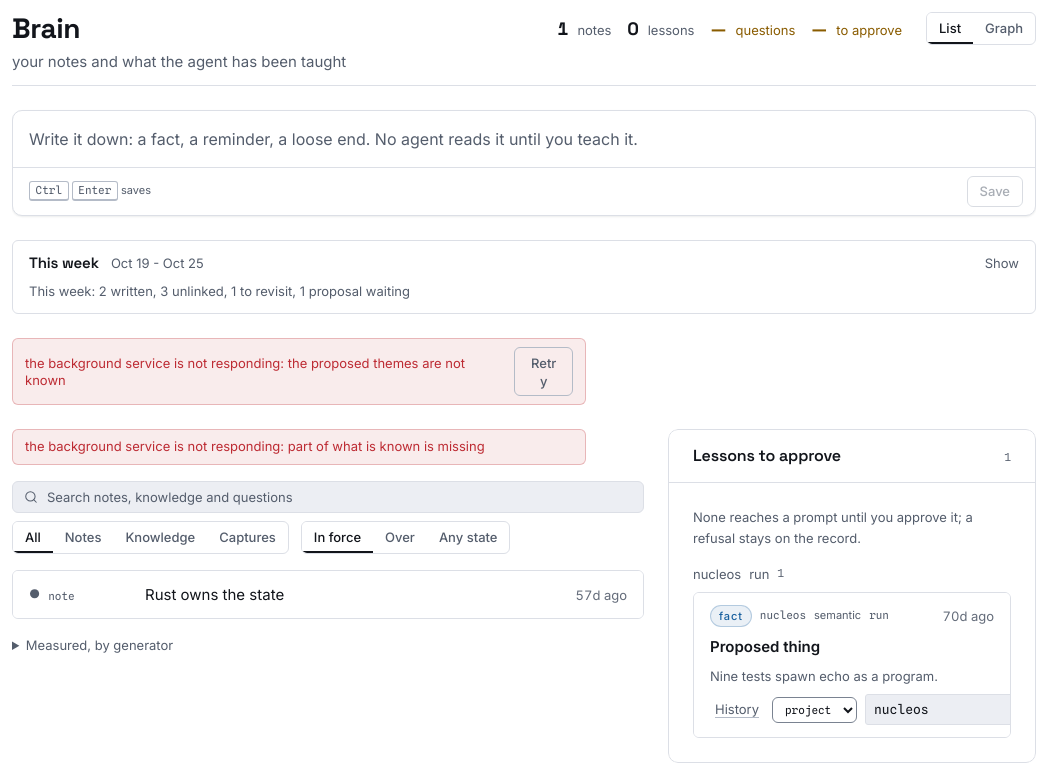
Brain › with nothing open the aside holds the lessons to approve, and Close gives them back
Check: the heading "Lessons to approve" is shown, box [693,446,841,466]
Click the button "note Rust owns the state 57d ago" at (215, 594), box [13,571,643,618]
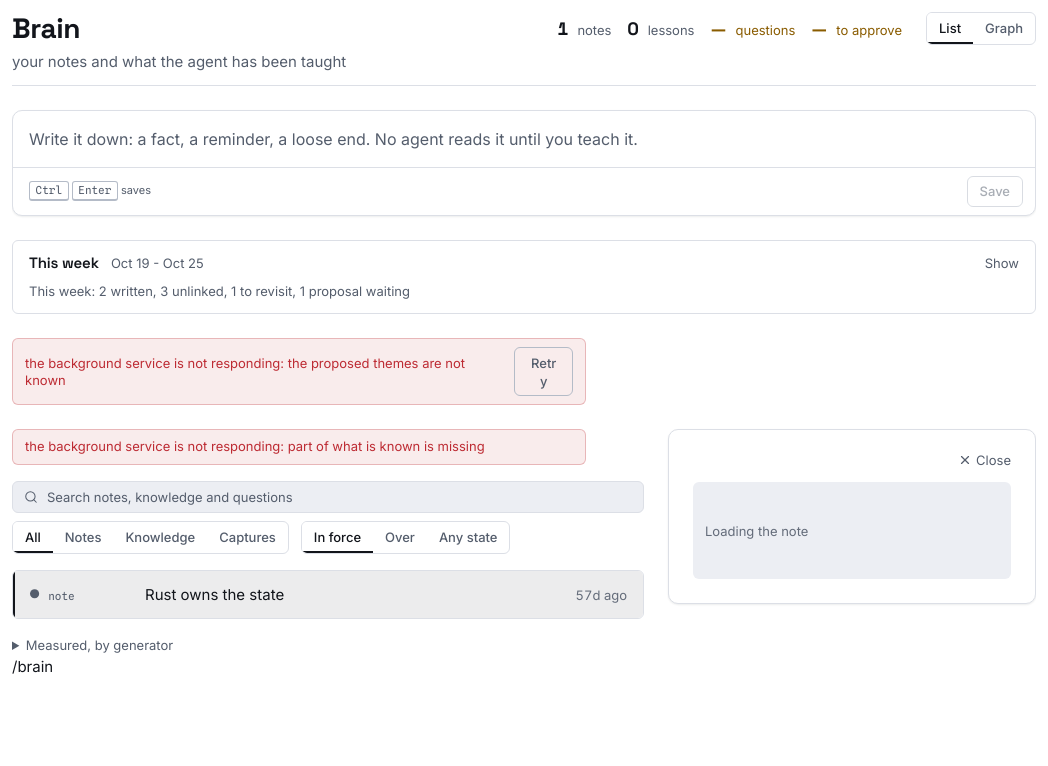
Check: the heading "Lessons to approve" is gone
Click the button "Close" at (985, 460), box [950,446,1019,474]
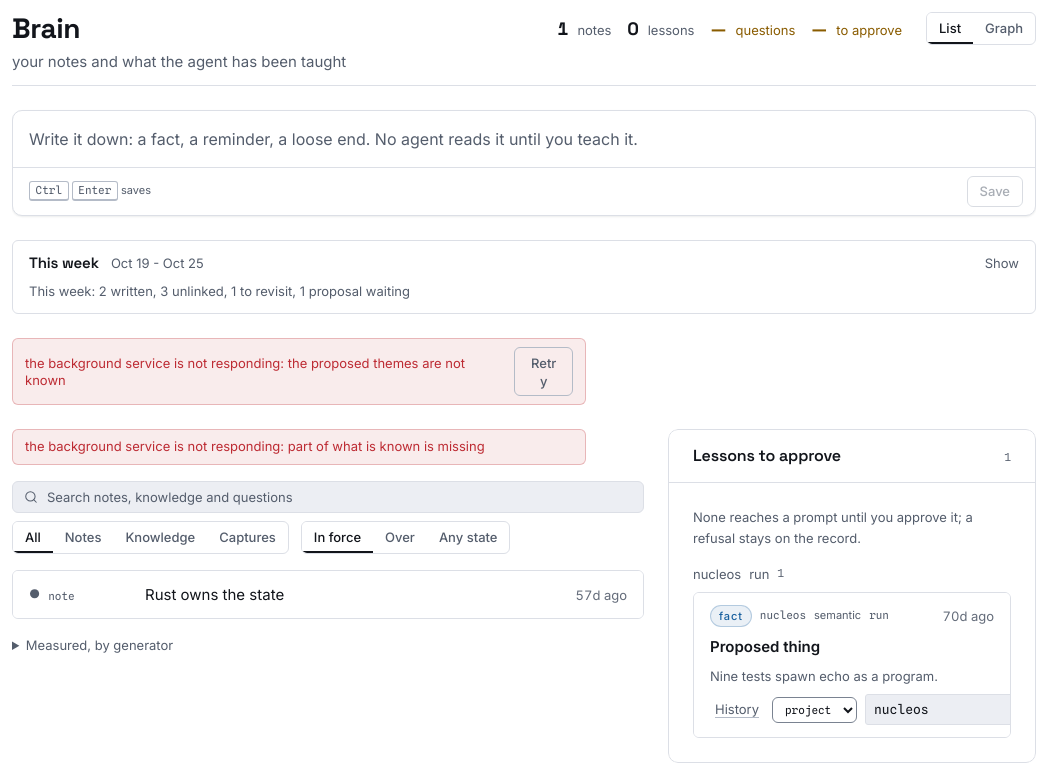
Check: the element named "For you" is shown, box [668,429,1036,763]
